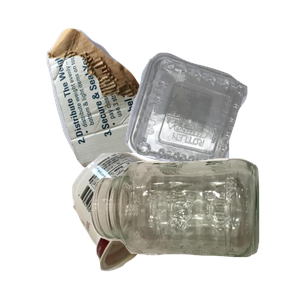cardboard: (44, 26, 209, 186)
glass: (88, 156, 300, 300)
plastic: (123, 50, 300, 214)
trash: (70, 149, 254, 300)
